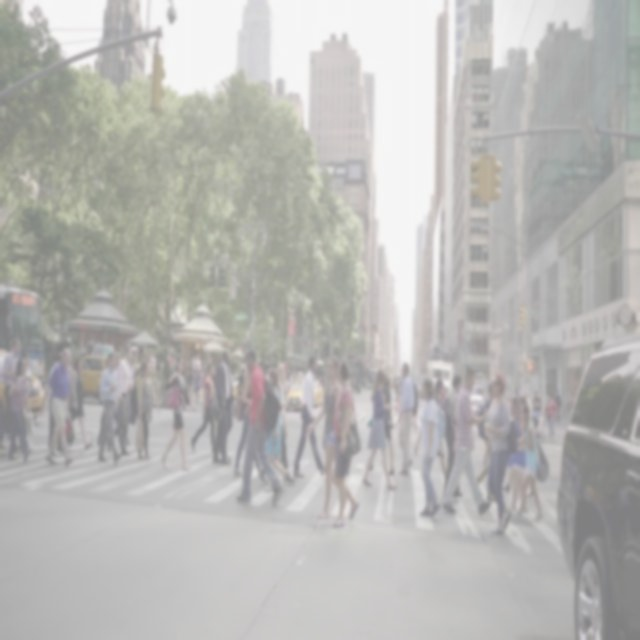pessoa: (234, 345, 285, 508), (442, 363, 494, 518), (304, 352, 349, 520), (480, 366, 520, 538), (361, 365, 399, 492), (331, 358, 359, 530), (159, 355, 199, 473), (232, 349, 266, 482), (413, 376, 443, 523), (292, 354, 326, 482), (39, 344, 74, 468), (502, 392, 532, 519), (516, 402, 545, 524), (364, 370, 396, 478), (262, 369, 290, 492), (439, 373, 464, 508), (208, 346, 235, 466), (106, 344, 134, 457), (132, 358, 161, 462), (273, 361, 297, 484), (190, 362, 221, 454), (98, 351, 122, 466), (8, 356, 32, 466), (46, 348, 70, 458), (96, 350, 122, 450), (68, 354, 94, 452), (397, 361, 417, 479), (2, 336, 22, 440), (16, 354, 36, 452), (187, 350, 210, 402), (128, 353, 144, 427), (544, 392, 559, 444), (524, 388, 542, 418), (284, 356, 302, 384), (552, 386, 562, 424), (482, 382, 493, 414), (166, 350, 178, 378), (395, 373, 402, 415), (236, 366, 245, 398), (506, 386, 520, 406), (502, 469, 512, 496), (316, 370, 326, 394), (571, 387, 578, 417)
